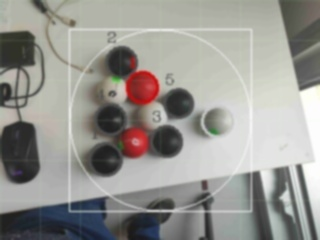Pelota blanca: (279, 0, 320, 90), (0, 31, 44, 108), (299, 79, 320, 165), (199, 105, 235, 138)
Pelota negra: (0, 121, 41, 184), (151, 123, 185, 159), (89, 141, 122, 178), (199, 105, 235, 138), (161, 87, 195, 120), (105, 45, 139, 78), (93, 103, 126, 135), (125, 213, 160, 240)
Pelota roja: (125, 69, 160, 105), (119, 125, 149, 160)
